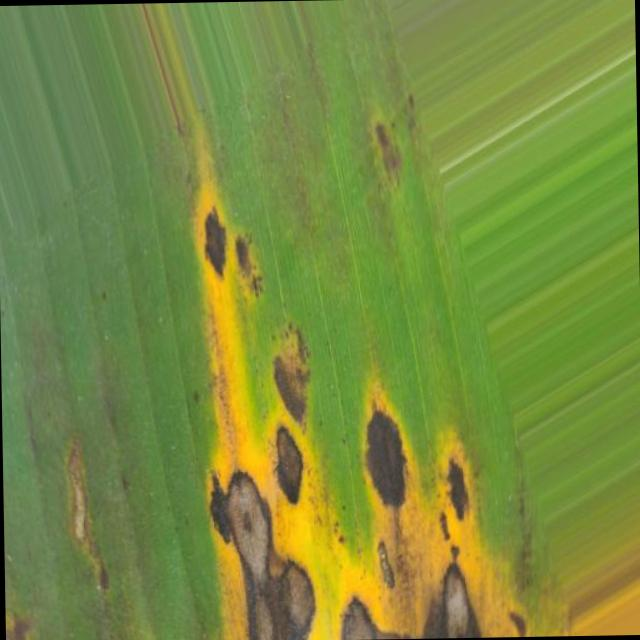Banana_Yellow_Sigatoka: (169, 154, 509, 636)
